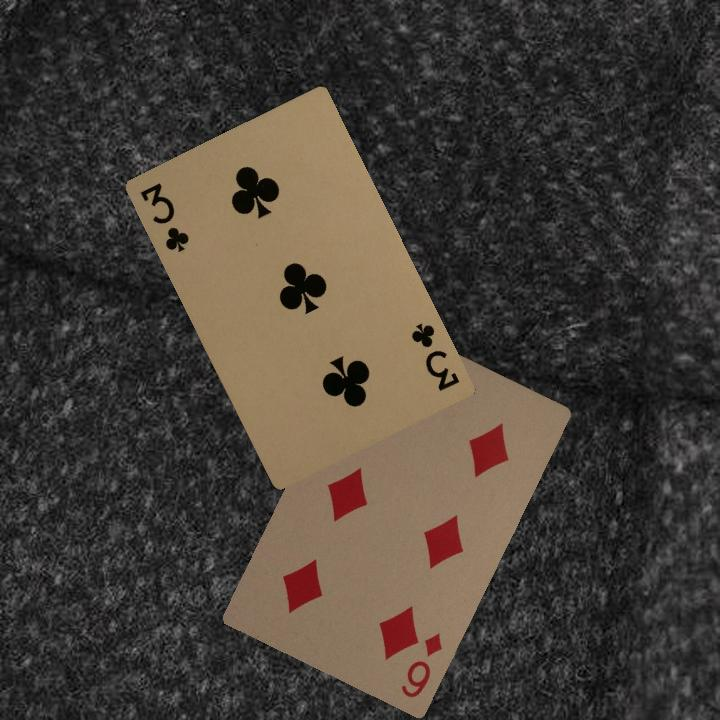3c: (136, 178, 192, 255), (407, 319, 462, 394)
6d: (397, 628, 446, 701)
